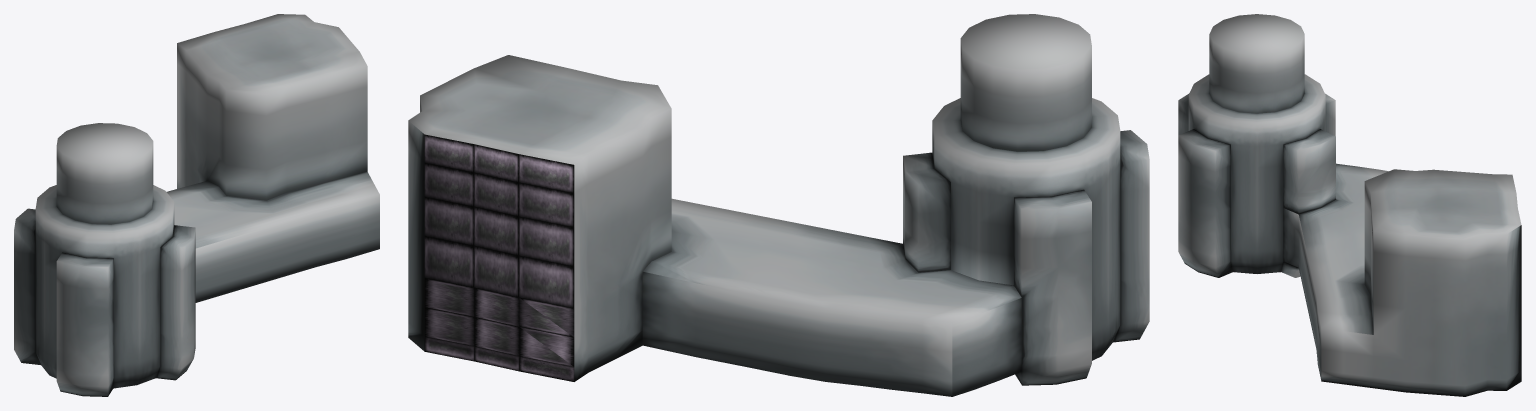
The model's file is west_wing.DAE.
The picture shows the model from 3 angles, left to right: view 1: azimuth 30°, elevation 25°; view 2: azimuth 150°, elevation 25°; view 3: azimuth 270°, elevation 25°; orthographic projection. The views are drawn at different scales.
Parts seen in each view (by area): view 1: west_wing; view 2: west_wing; view 3: west_wing.
Part boxes in pixels (x1,y1,x2,y2): west_wing: [14, 14, 379, 396]; west_wing: [408, 14, 1149, 396]; west_wing: [1178, 14, 1521, 396].
Bounding box in the file's own units: 322 × 164 × 238.
